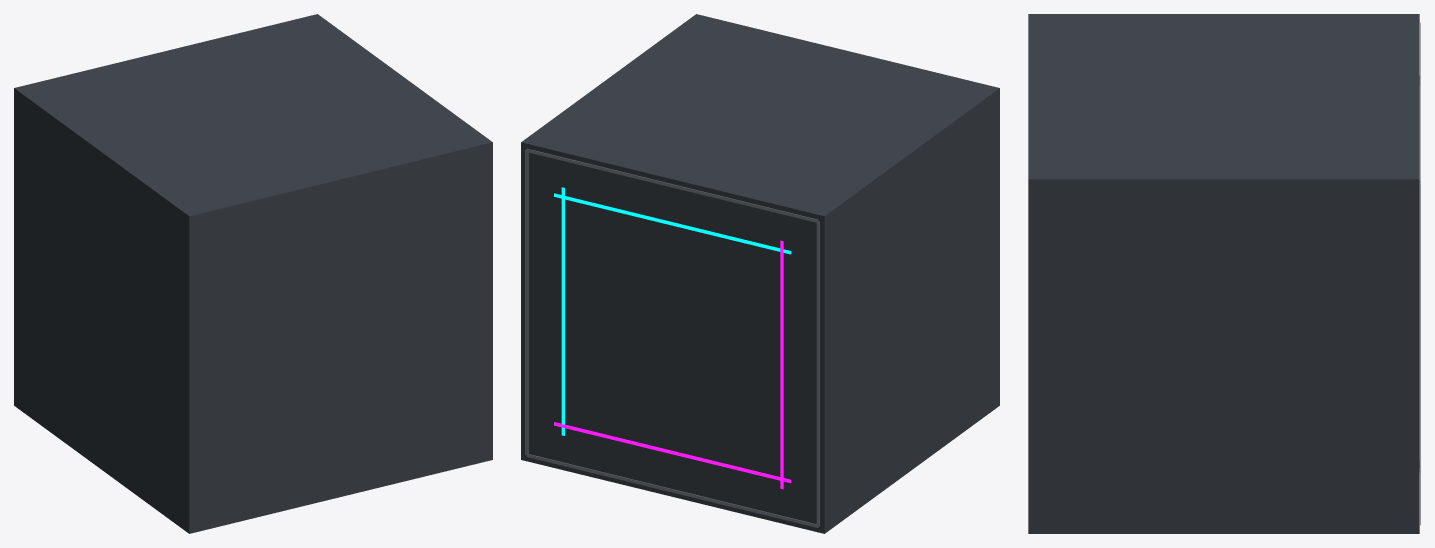
Rendered from CyberArenaRoomFloor.fbx.
3 renders of one model, left to right at view 1: azimuth 30°, elevation 25°; view 2: azimuth 150°, elevation 25°; view 3: azimuth 270°, elevation 25°, orthographic. The views are drawn at different scales.
Parts seen in each view (by area): view 1: bounded room floor solid slab; view 2: bounded room floor solid slab, top flush graphite edge z.001, top flush graphite edge x.001, top flush graphite edge z, top flush graphite edge x, top flush floor light z.001, top flush floor light z, top flush floor light x, top flush floor light x.001; view 3: bounded room floor solid slab.
Boxes of the visible parts, x1=… form: bounded room floor solid slab: x1=14, y1=14, x2=492, y2=533; bounded room floor solid slab: x1=521, y1=14, x2=999, y2=533; top flush graphite edge z.001: x1=526, y1=454, x2=818, y2=527; top flush graphite edge x.001: x1=816, y1=221, x2=819, y2=526; top flush graphite edge z: x1=526, y1=148, x2=818, y2=222; top flush graphite edge x: x1=525, y1=150, x2=528, y2=455; top flush floor light z.001: x1=554, y1=422, x2=791, y2=483; top flush floor light z: x1=554, y1=193, x2=791, y2=254; top flush floor light x: x1=561, y1=187, x2=564, y2=435; top flush floor light x.001: x1=780, y1=240, x2=783, y2=489; bounded room floor solid slab: x1=1028, y1=14, x2=1419, y2=533.
Size of the model in its own units: 100 by 100 by 100.
